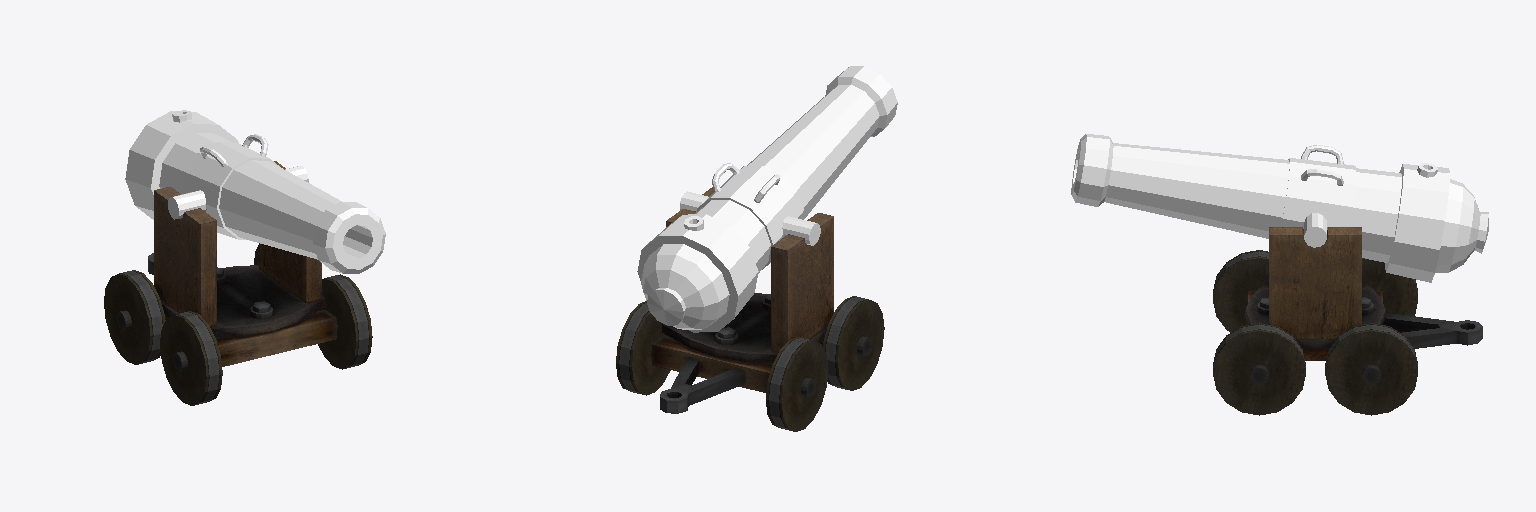
The picture shows the model from 3 angles: view 1: azimuth 30°, elevation 25°; view 2: azimuth 150°, elevation 25°; view 3: azimuth 270°, elevation 25°; orthographic projection.
Parts seen in each view (by area): view 1: cannonwagonmesh, cannonmesh; view 2: cannonwagonmesh, cannonmesh; view 3: cannonwagonmesh, cannonmesh.
Part boxes in pixels (x1,y1,x2,y2): cannonwagonmesh: (104, 161, 372, 405); cannonmesh: (125, 110, 385, 273); cannonwagonmesh: (616, 187, 884, 431); cannonmesh: (637, 66, 897, 332); cannonwagonmesh: (1213, 227, 1482, 415); cannonmesh: (1071, 134, 1488, 282).
Bounding box in the file's own units: 1.65 × 2.11 × 3.35.
Materials: 2 (1 with a texture image).